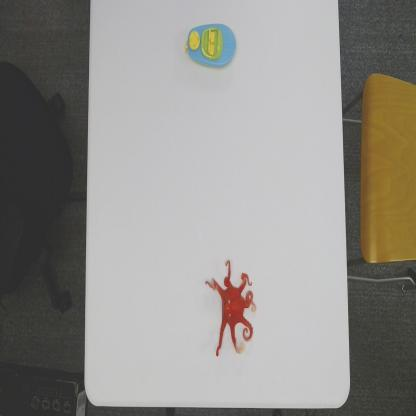Boat: (183, 20, 237, 71)
Octopus: (204, 257, 257, 360)
